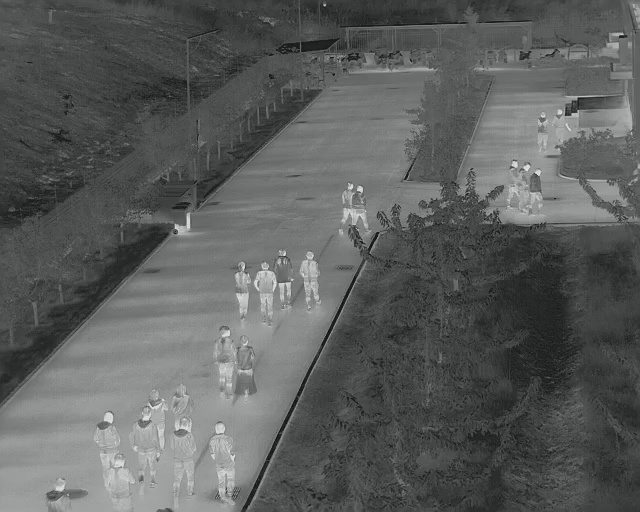person: (129, 406, 160, 495), (169, 416, 198, 509), (207, 421, 238, 506), (213, 324, 236, 401), (234, 335, 258, 403), (103, 452, 130, 512), (254, 261, 277, 329), (92, 409, 121, 461), (272, 247, 295, 311), (299, 250, 322, 312), (234, 260, 252, 325), (170, 382, 194, 429), (46, 477, 73, 512), (527, 168, 545, 217), (506, 159, 522, 211), (340, 183, 355, 235), (352, 185, 370, 225), (552, 106, 572, 141), (536, 110, 550, 153)
